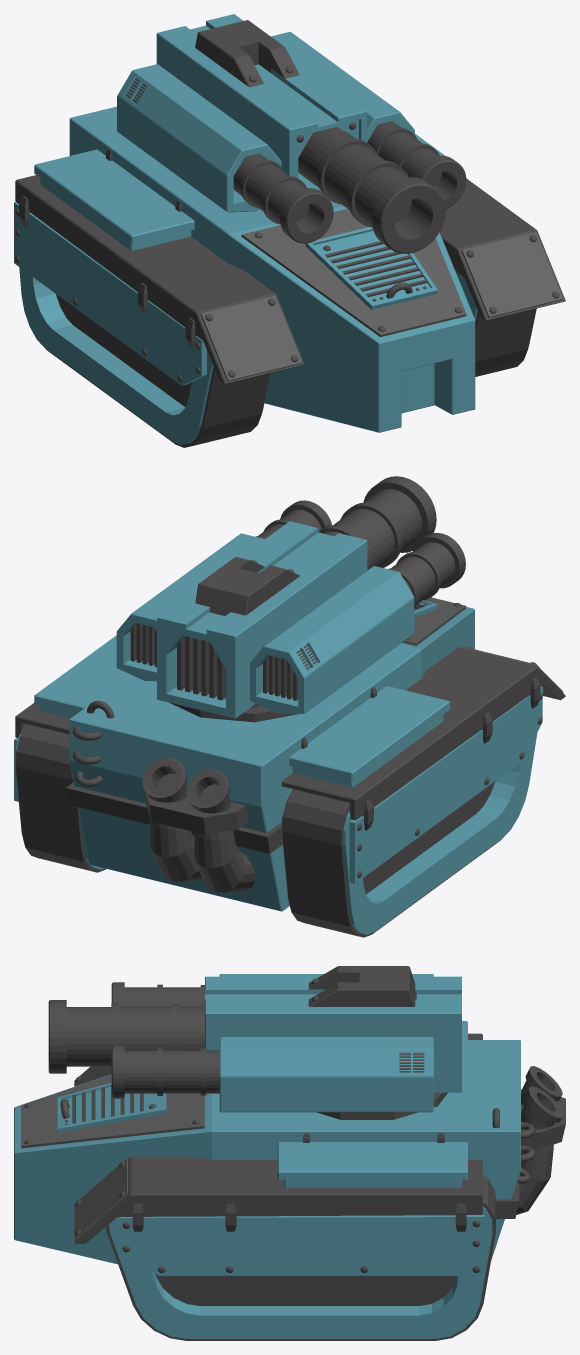
Rendered from MediumTankAnimation.fbx.
The picture shows the model from 3 angles, top to bottom: view 1: azimuth 30°, elevation 25°; view 2: azimuth 150°, elevation 25°; view 3: azimuth 270°, elevation 25°; orthographic projection. The views are drawn at different scales.
Visible parts, largest first — view 1: Amediumtank, Amediumtank.001, Amediumtank.002, Amediumtank.004; view 2: Amediumtank, Amediumtank.001, Amediumtank.002, Amediumtank.004; view 3: Amediumtank, Amediumtank.001, Amediumtank.002, Amediumtank.004.
Boxes of the visible parts, bbox=[...] form: Amediumtank: bbox=[14, 106, 565, 447]; Amediumtank.001: bbox=[117, 14, 414, 212]; Amediumtank.002: bbox=[298, 127, 445, 253]; Amediumtank.004: bbox=[233, 121, 466, 243]; Amediumtank: bbox=[14, 597, 565, 937]; Amediumtank.001: bbox=[116, 521, 414, 718]; Amediumtank.002: bbox=[319, 476, 436, 570]; Amediumtank.004: bbox=[255, 500, 465, 608]; Amediumtank: bbox=[14, 1021, 565, 1340]; Amediumtank.001: bbox=[205, 966, 461, 1112]; Amediumtank.002: bbox=[48, 1000, 204, 1073]; Amediumtank.004: bbox=[111, 982, 219, 1098].
Size of the model in its own units: 361 by 292 by 511.
